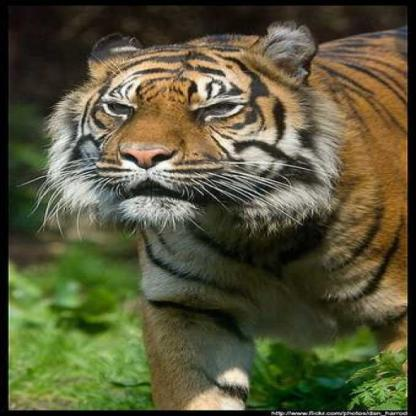Tiger: (36, 12, 415, 415)
